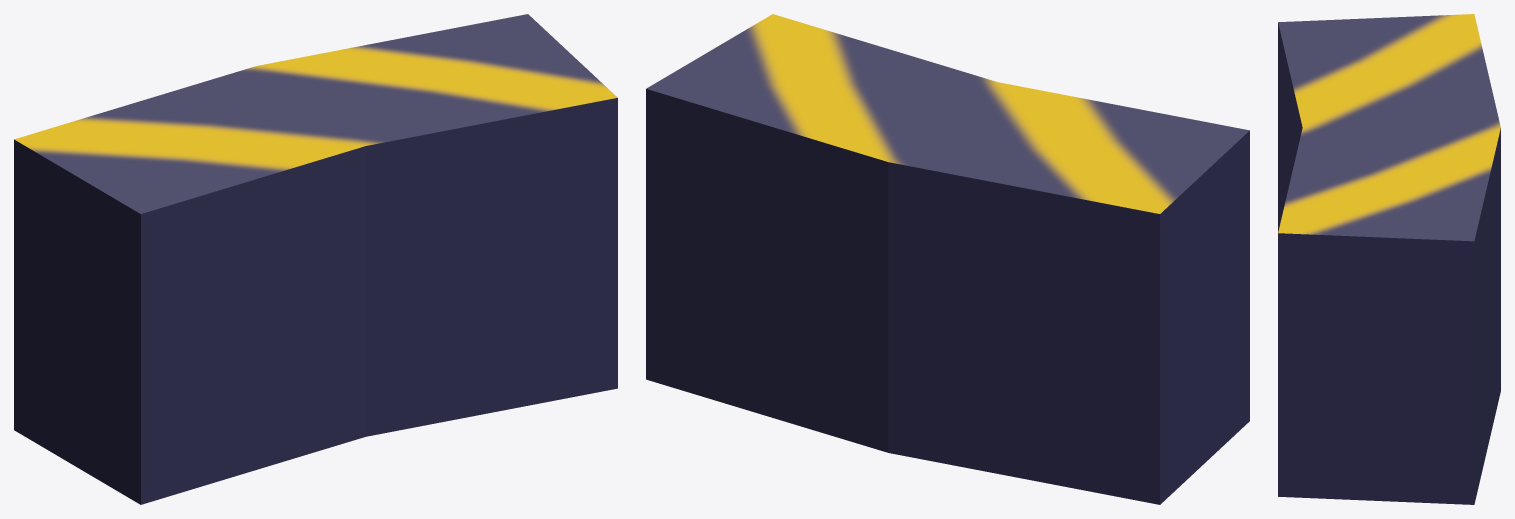
File: newyork_circular_barrier_tape_1.fbx
The picture shows the model from 3 angles, left to right: view 1: azimuth 30°, elevation 25°; view 2: azimuth 150°, elevation 25°; view 3: azimuth 270°, elevation 25°; orthographic projection. The views are drawn at different scales.
Parts seen in each view (by area): view 1: Cylinder.090; view 2: Cylinder.090; view 3: Cylinder.090.
Boxes of the visible parts, <box> form: Cylinder.090: <box>14,14,617,504</box>; Cylinder.090: <box>646,14,1249,504</box>; Cylinder.090: <box>1278,14,1500,504</box>.
Size of the model in its own units: 370 by 200 by 153.
